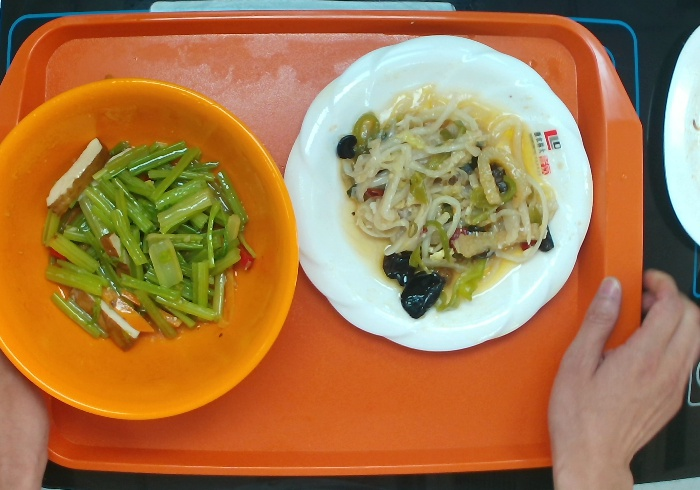ZNLD-Hua_Bian_Wan: (283, 34, 595, 353)
ZNLD-Ju_Se_Tang_Wan: (1, 75, 304, 423)
